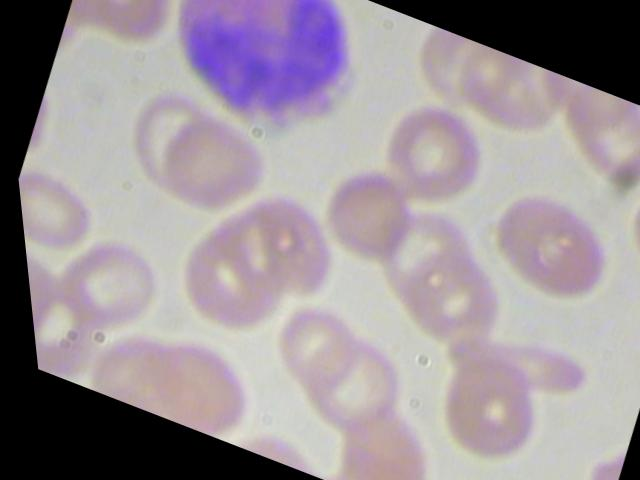Red Blood Cells: (454, 173, 625, 315), (132, 94, 285, 230), (410, 342, 563, 478), (264, 316, 417, 452), (354, 84, 506, 220), (36, 214, 176, 343), (292, 154, 432, 282), (12, 141, 120, 266), (536, 82, 639, 212)
White Blood Cells: (134, 0, 402, 170)
